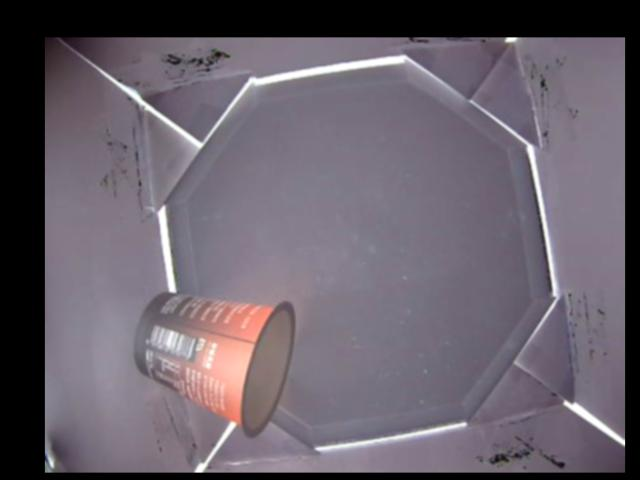Cup: (130, 289, 294, 439)
